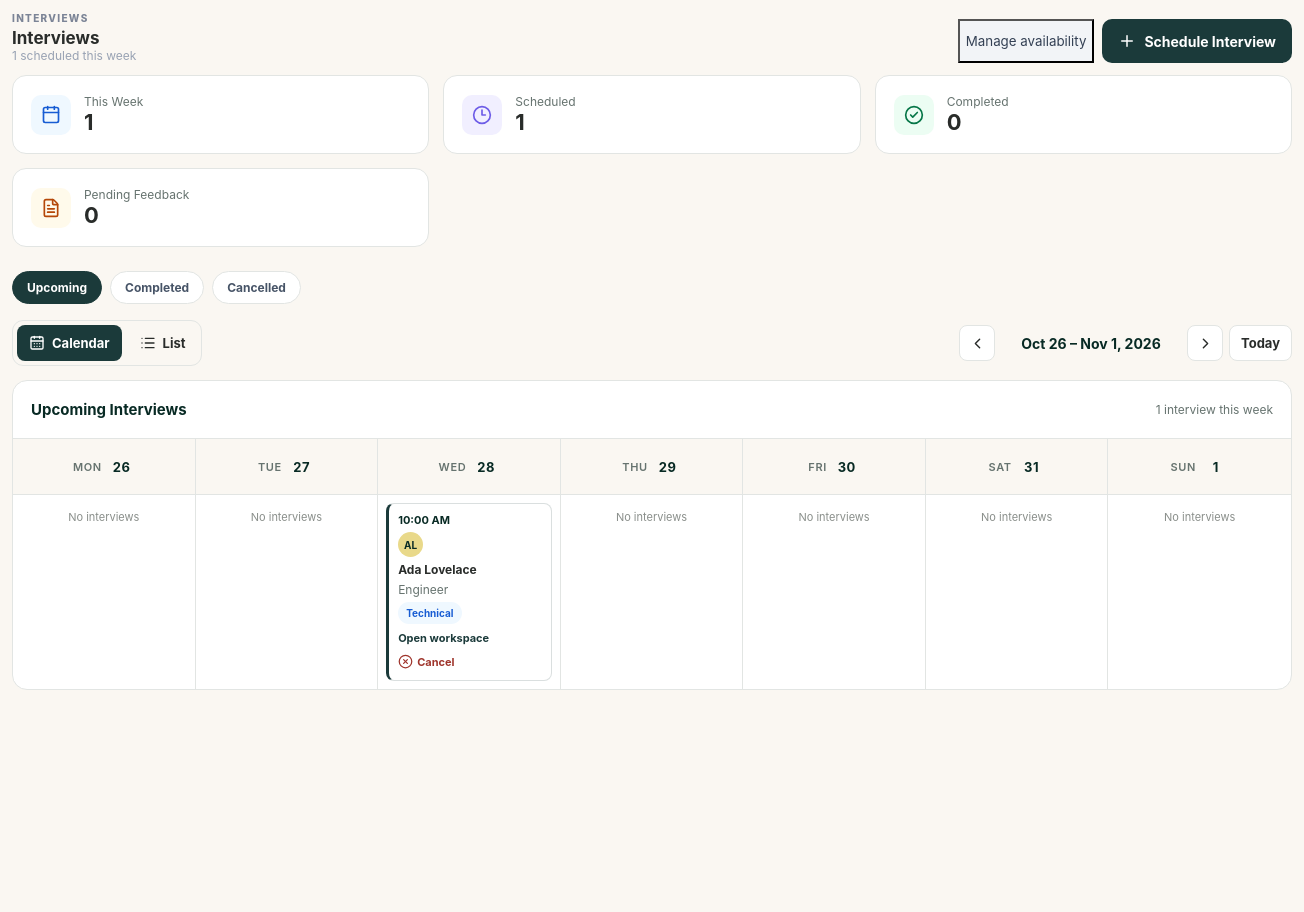
Scenario: Interviews empty states › shows only real interviews in the selected calendar week and preserves the list view
Expected: the text "Ada Lovelace" is shown, [398, 562, 477, 577]
Expected: the text "Engineer" is shown, [398, 582, 448, 597]
Click the button named "Next week". click: (1205, 343)
box: [1187, 325, 1223, 361]
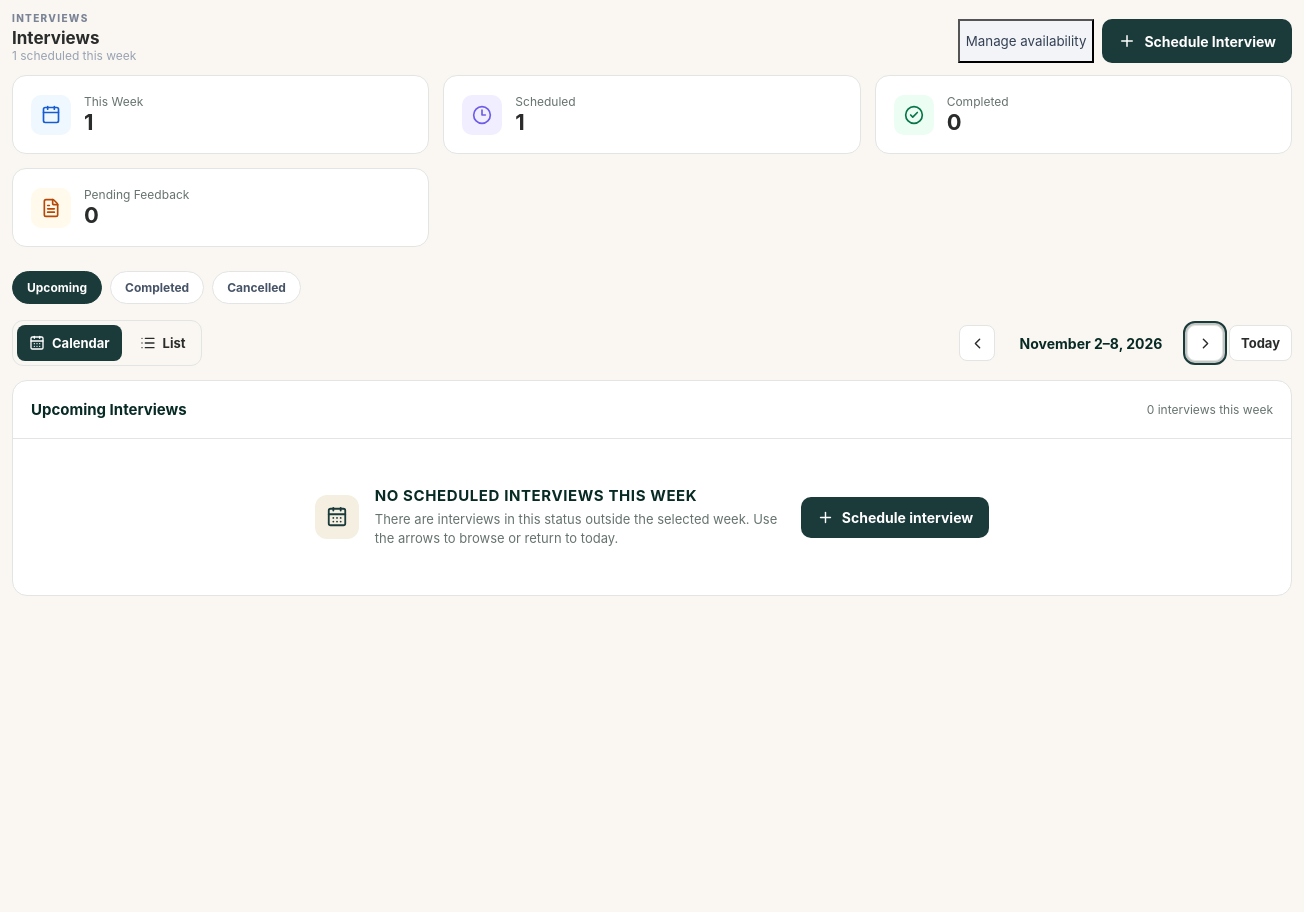
Expected: the heading "No scheduled interviews this week" is shown, [375, 486, 697, 504]
Expected: the text "outside the selected week" is shown, [375, 510, 777, 546]
Click the button "Today". click: (1260, 343)
box: [1229, 325, 1292, 361]
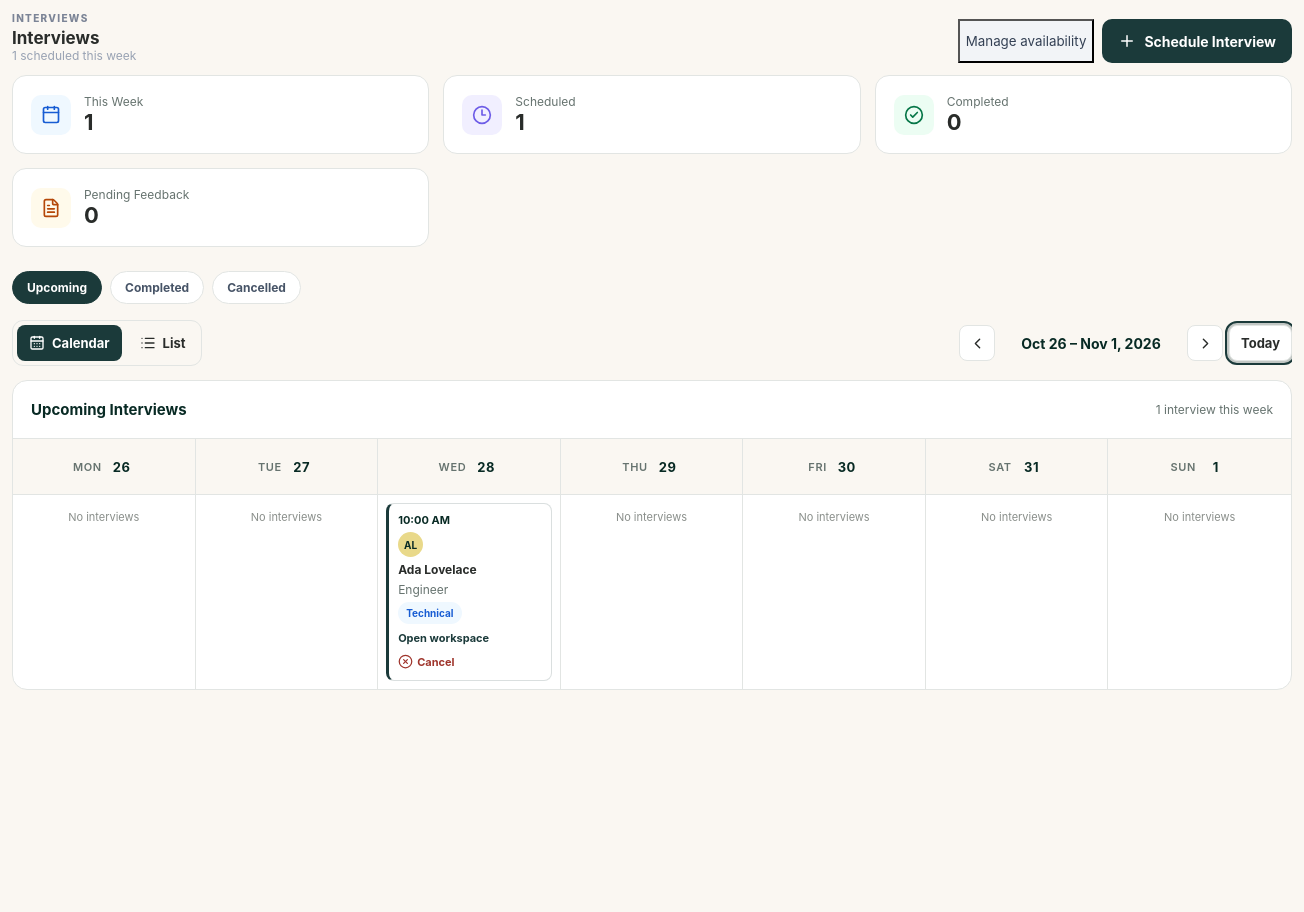
Expected: the text "Ada Lovelace" is shown, [398, 562, 477, 577]
Click the button "List". click: (163, 343)
box: [128, 325, 198, 361]
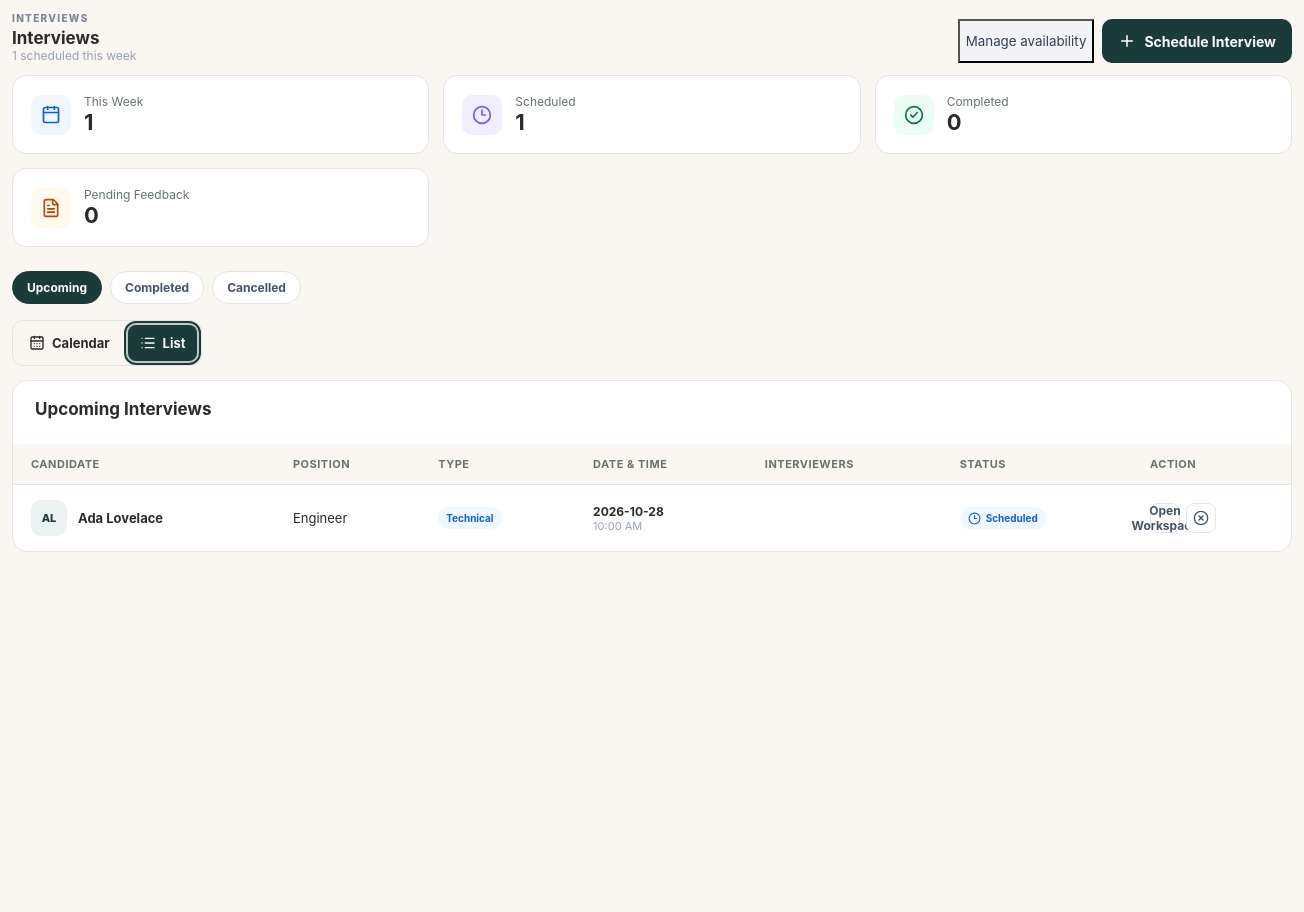
Expected: the column heading "Candidate" is shown, [13, 444, 275, 484]
Expected: the column heading "Interviewers" is shown, [747, 444, 942, 484]
